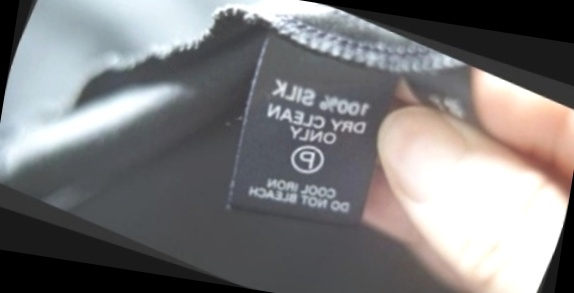dry_clean_any_solvent_except_trichloroethylene: (280, 133, 333, 184)
